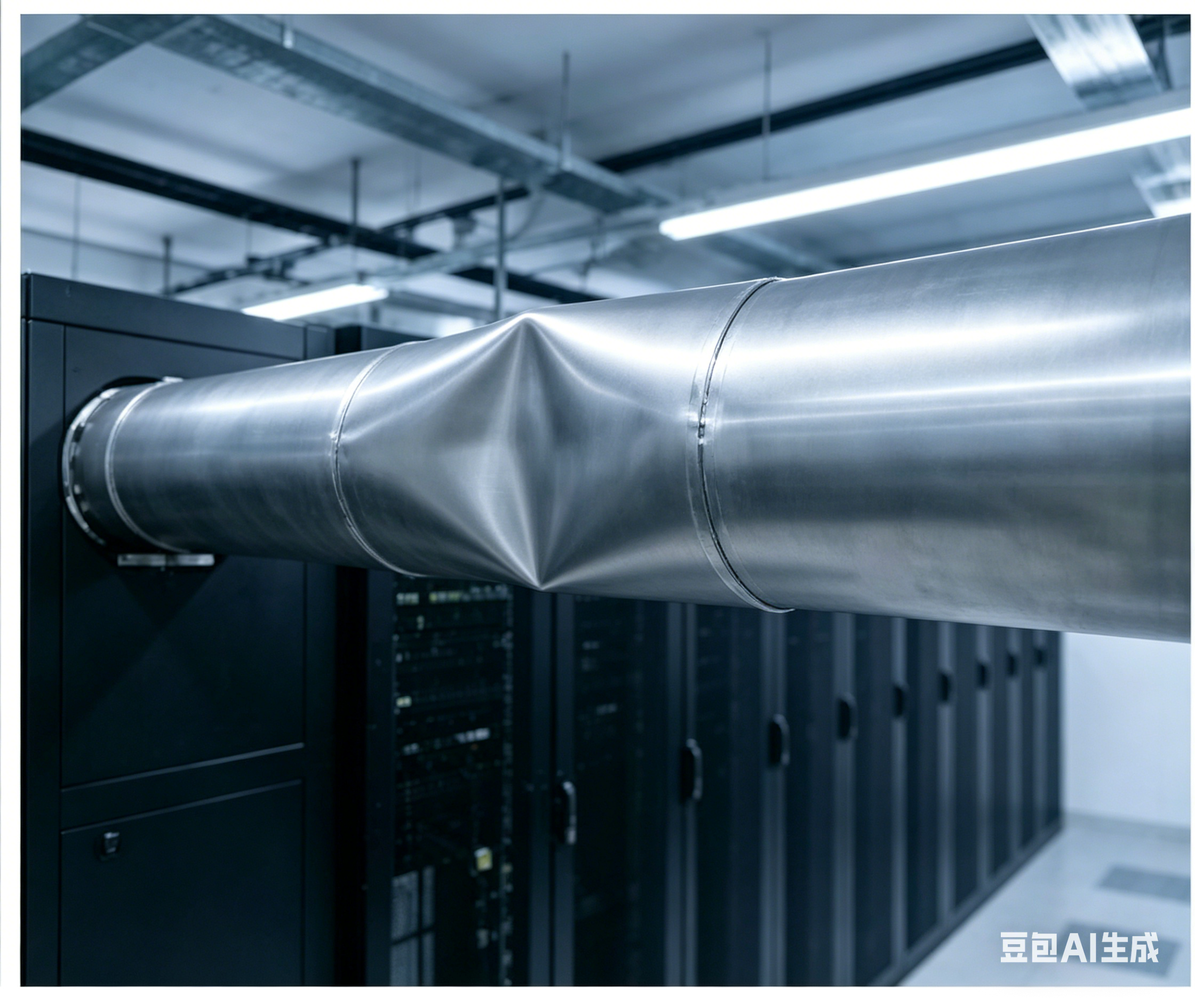Leakage: (405, 314, 661, 586)
